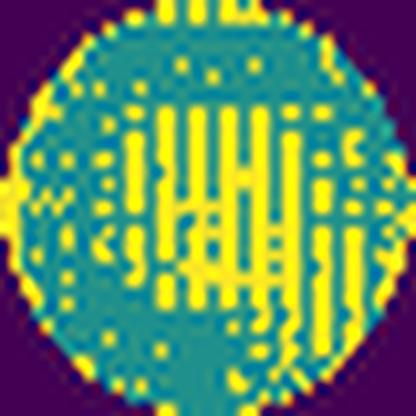Random: (0, 0, 416, 390)
